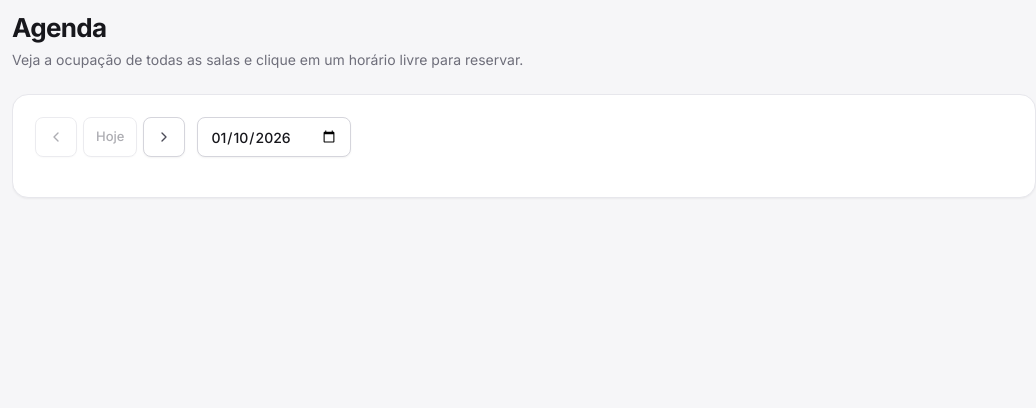
Agenda › navega entre os dias e volta para hoje
Expected: the button named "Dia anterior" is disabled, [35,117,77,157]
Expected: the button "Hoje" is disabled, [83,117,138,157]
Click the button named "Próximo dia" at coordinates (164, 137), box [144,117,186,157]
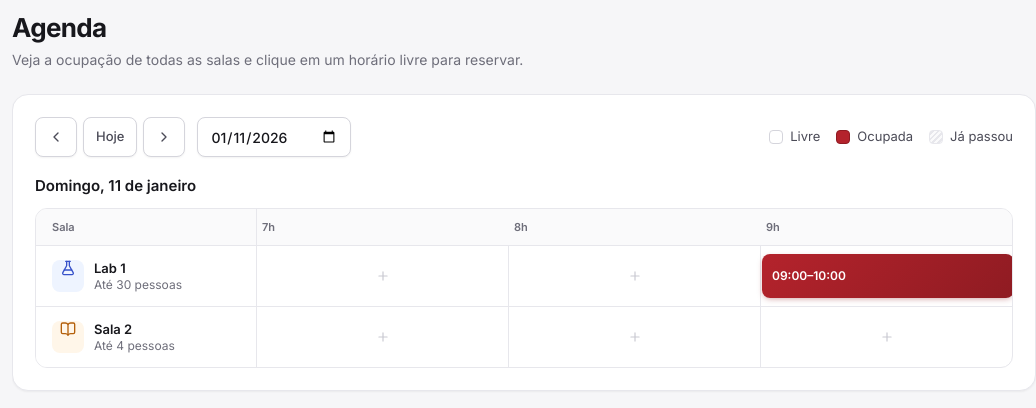
Expected: the text "Horário encerrado" is not shown
Result: the text "Domingo, 11 de janeiro" is shown at [35,176,196,195]
Click the button named "Próximo dia" at coordinates (164, 137), box [144,117,186,157]
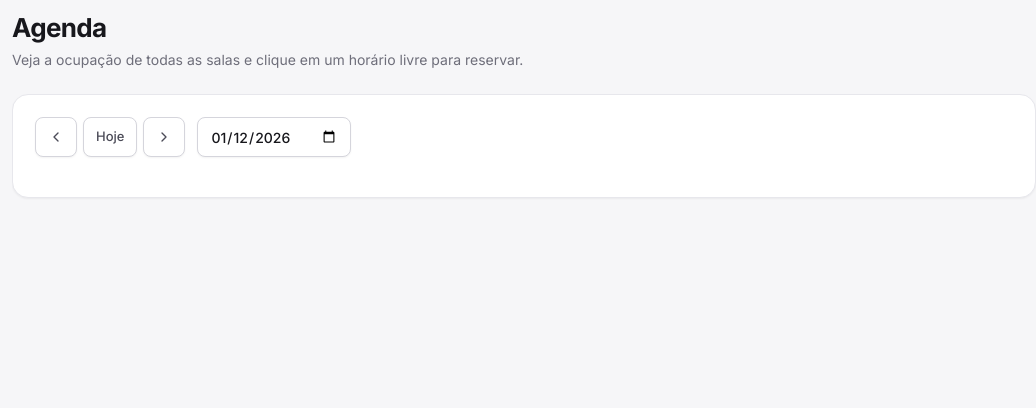
Click the button named "Dia anterior" at coordinates (56, 137), box [35,117,77,157]
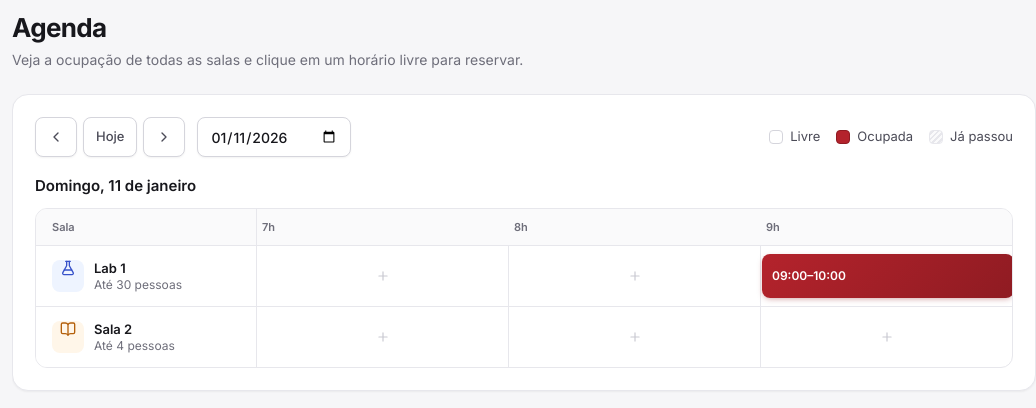
Result: the text "Domingo, 11 de janeiro" is shown at [35,176,196,195]
Click the button "Hoje" at coordinates (110, 137), box [83,117,138,157]
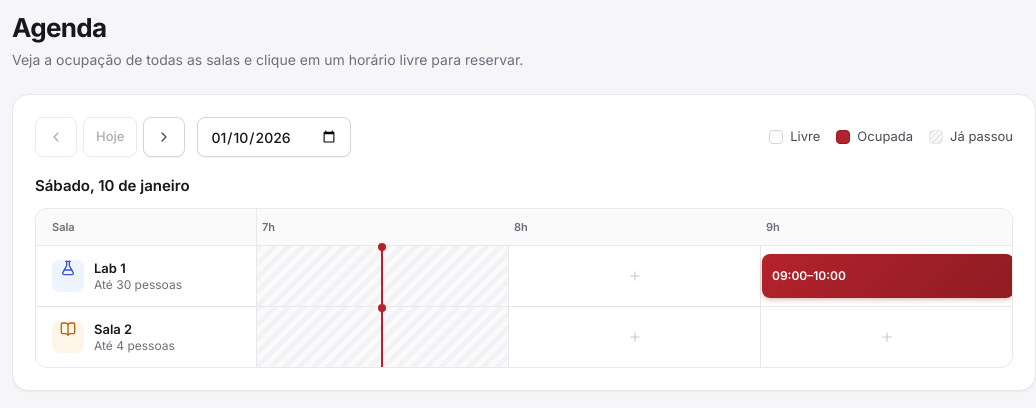
Result: the text "Sábado, 10 de janeiro" is shown at [35,176,190,195]
